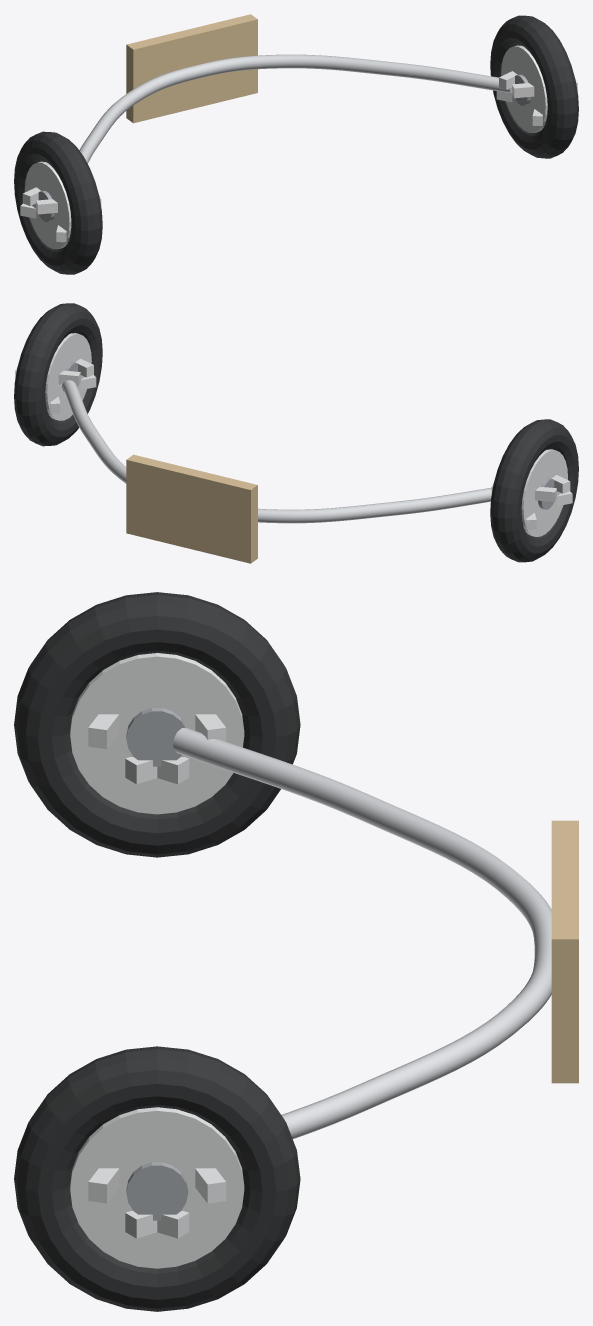
The model's file is tren.glb.
The picture shows the model from 3 angles, top to bottom: view 1: azimuth 30°, elevation 25°; view 2: azimuth 150°, elevation 25°; view 3: azimuth 270°, elevation 25°; orthographic projection. The views are drawn at different scales.
Parts seen in each view (by area): view 1: TrenPrincipal; view 2: TrenPrincipal; view 3: TrenPrincipal.
Boxes of the visible parts, x1=… form: TrenPrincipal: x1=14, y1=14, x2=578, y2=274; TrenPrincipal: x1=14, y1=303, x2=578, y2=563; TrenPrincipal: x1=14, y1=592, x2=578, y2=1311.
Bounding box in the file's own units: 0.1967 × 0.0469 × 0.0925.
